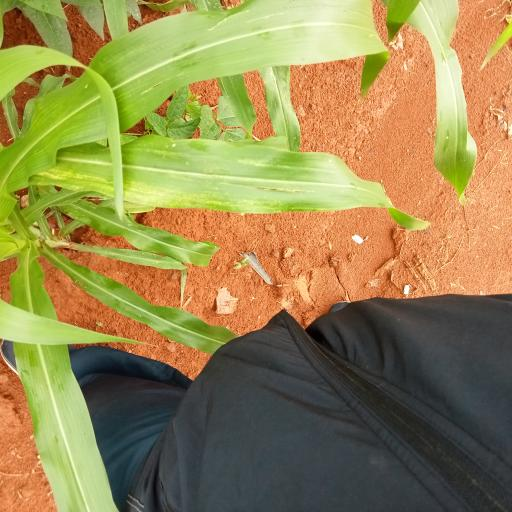Corn_Brown_Spots: (0, 5, 484, 226)
